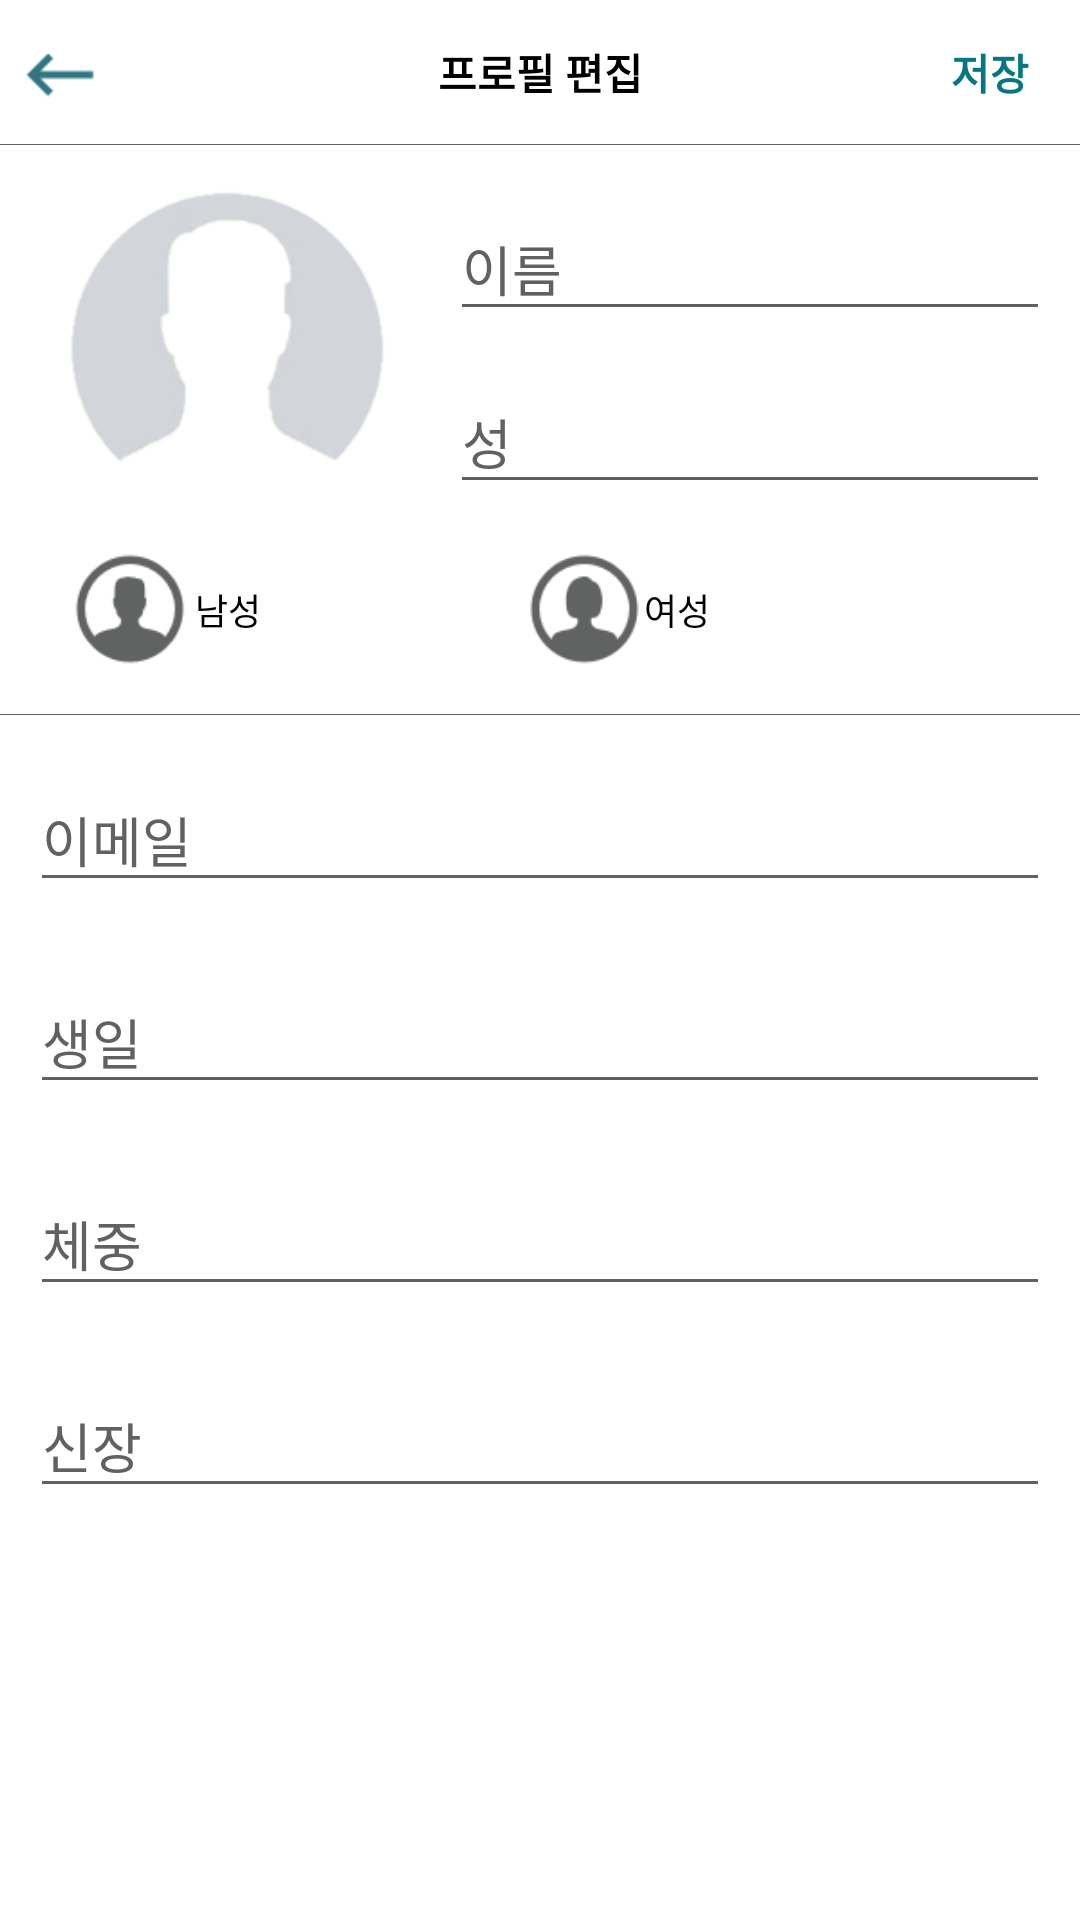

Icon click points for this 1080px x 1920px phone screenshot, format [x,y]:
back: [60,75]
profile common: [227,326]
